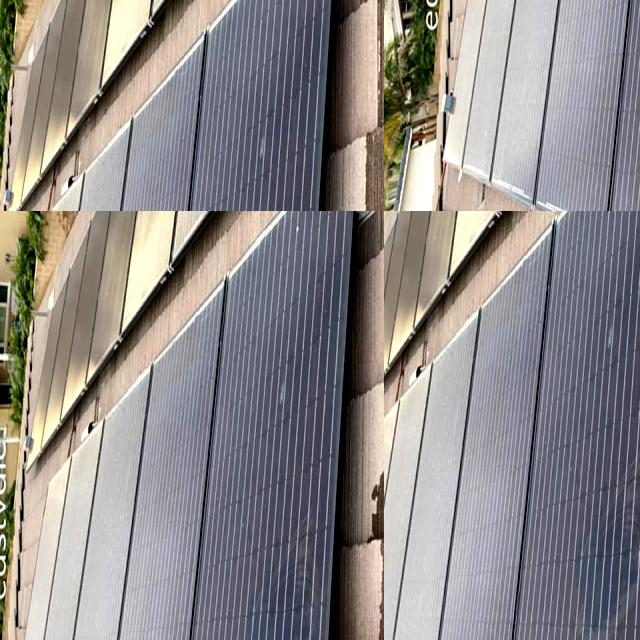dust: (557, 227, 640, 640), (436, 368, 474, 640), (518, 277, 546, 640), (483, 313, 511, 640)
panel: (384, 0, 640, 211), (538, 0, 640, 146), (0, 292, 80, 397)
